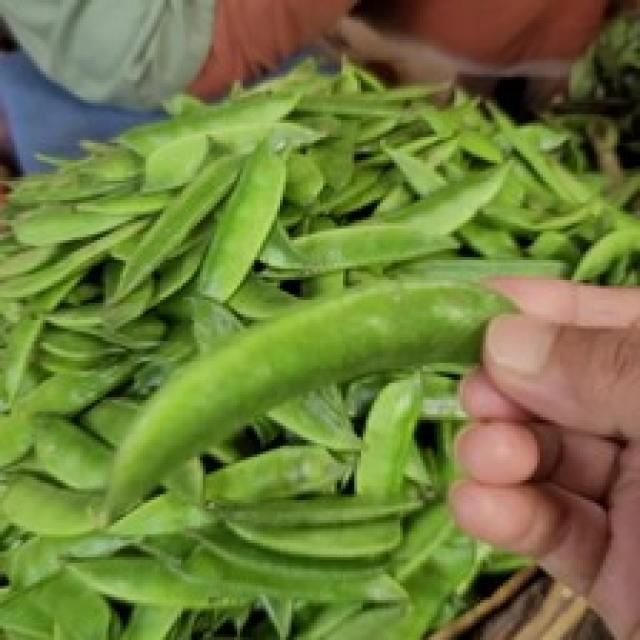Bean: (0, 49, 637, 637), (97, 274, 520, 526)
